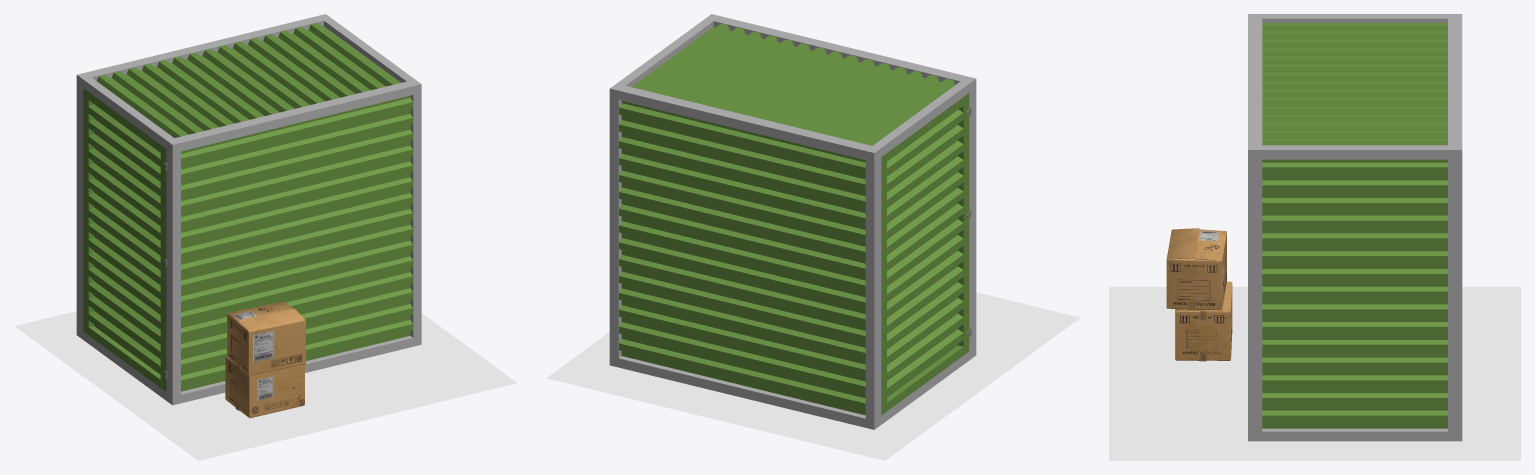
3 renders of one model, left to right at view 1: azimuth 30°, elevation 25°; view 2: azimuth 150°, elevation 25°; view 3: azimuth 270°, elevation 25°, orthographic. The views are drawn at different scales.
Visible parts, largest first — view 1: Cube.019, Plane, Cube.016, Cube.017, Cube.023, Cube.022, Object_9, Object_10; view 2: Cube.020, Cube.016, Cube.017, Plane, Cube.023, Cube.022; view 3: Cube.018, Plane, Cube.017, Cube.016, Object_9, Object_10, Cube.021.
Boxes of the visible parts, x1,y1,x2,y2 form: Cube.019: [181, 95, 412, 391]; Plane: [14, 311, 517, 460]; Cube.016: [76, 14, 421, 405]; Cube.017: [97, 23, 400, 137]; Cube.023: [88, 104, 160, 374]; Cube.022: [83, 88, 166, 391]; Object_9: [227, 301, 305, 375]; Object_10: [225, 355, 304, 418]; Cube.020: [619, 101, 865, 415]; Cube.016: [609, 14, 976, 429]; Cube.017: [631, 23, 954, 145]; Plane: [546, 292, 1080, 460]; Cube.023: [887, 109, 963, 397]; Cube.022: [881, 93, 969, 415]; Cube.018: [1262, 159, 1447, 428]; Plane: [1109, 287, 1520, 460]; Cube.017: [1262, 23, 1447, 145]; Cube.016: [1248, 14, 1462, 441]; Object_9: [1166, 228, 1226, 310]; Object_10: [1175, 281, 1232, 361]; Cube.021: [1262, 428, 1447, 431].
Bounding box in the file's own units: 3.08 × 2.41 × 3.08.
11 materials, 3 textured.
